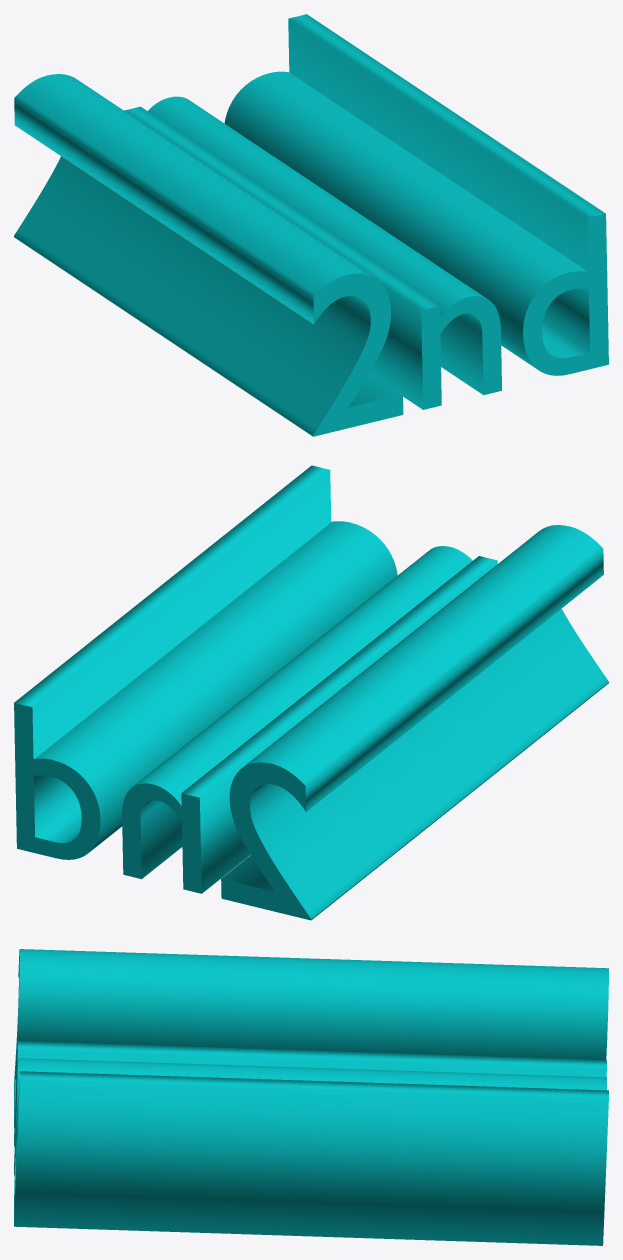
File: stage_2_Text.obj
The picture shows the model from 3 angles, top to bottom: view 1: azimuth 30°, elevation 25°; view 2: azimuth 150°, elevation 25°; view 3: azimuth 270°, elevation 25°; orthographic projection.
Visible parts, largest first — view 1: テキスト; view 2: テキスト; view 3: テキスト.
Boxes of the visible parts, x1=… form: テキスト: x1=14, y1=14, x2=608, y2=436; テキスト: x1=14, y1=465, x2=608, y2=920; テキスト: x1=14, y1=949, x2=608, y2=1245.
Bounding box in the file's own units: 1.42 × 0.7799 × 2.51.
